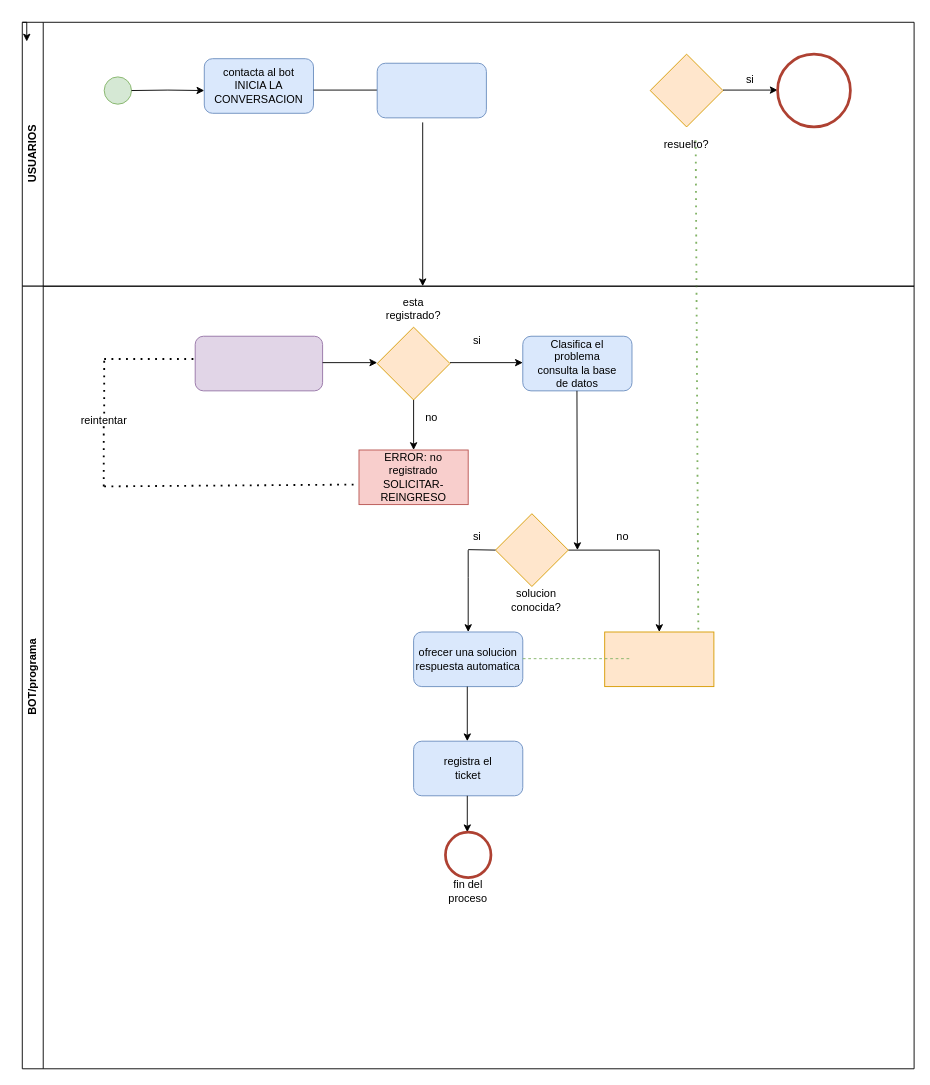
Some shapes in this 930 by 1085 pixel diagram are drawn without their labels. The shapes that lost their labels are listed below. From the top down, each one's centre as x and y in pixels, then its label:
At (431,90): "DESCRIBE EL PROBLEMA".
At (258,363): "SOLICITAR CREDENCIALES".
At (659,659): "escala a tecnico crea ticket urgente".
